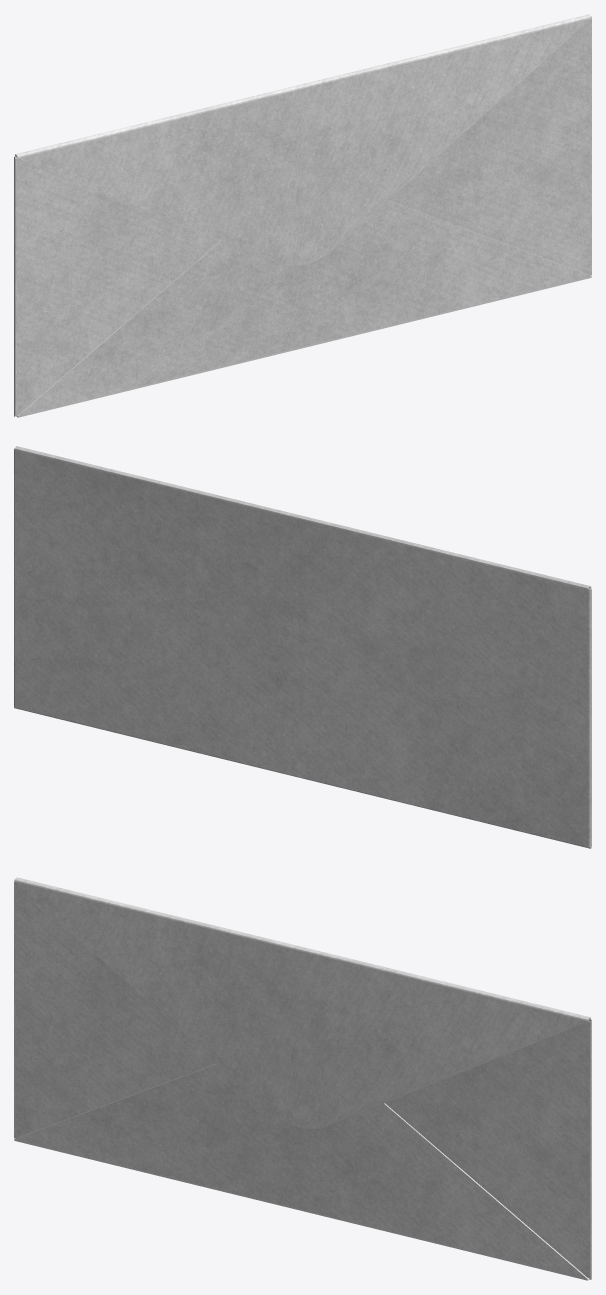
The model's file is AP_EnvelopeClosed01_HB.fbx.
3 views of the same model, one above another, from view 1: azimuth 30°, elevation 25°; view 2: azimuth 150°, elevation 25°; view 3: azimuth 330°, elevation 25° (orthographic).
Visible parts, largest first — view 1: pCube2; view 2: pCube2; view 3: pCube2.
Boxes of the visible parts, bbox=[...] form: pCube2: bbox=[14, 14, 591, 417]; pCube2: bbox=[14, 446, 591, 848]; pCube2: bbox=[14, 877, 591, 1280].
Size of the model in its own units: 27.9 by 12.1 by 0.375.
1 material, 1 textured.
